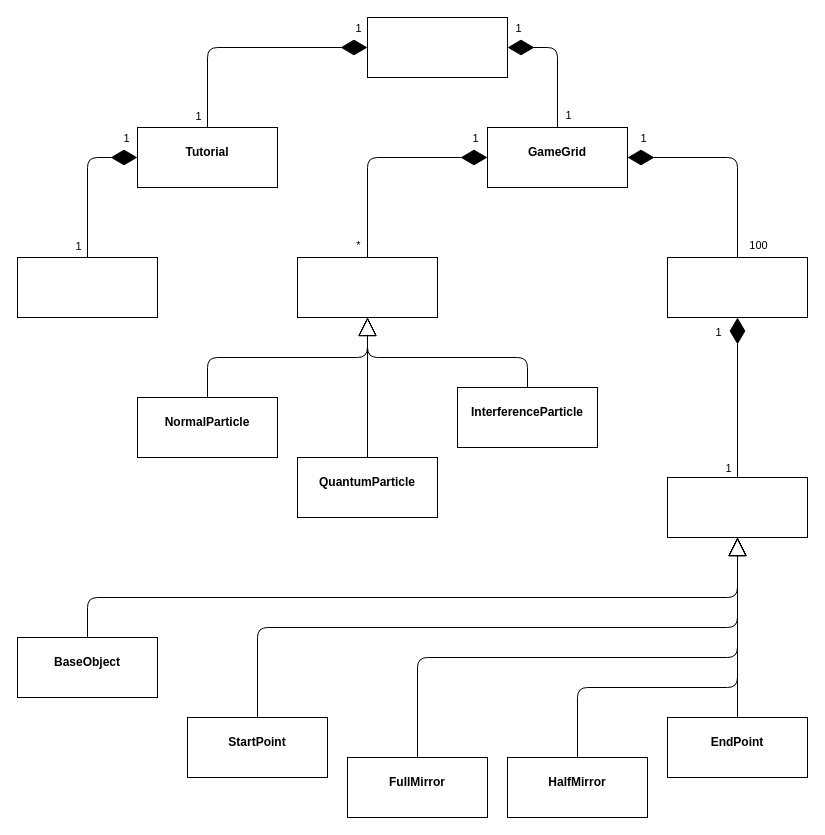
The diagram is 825 pixels wide and 835 high, and some of its shapes have lost their labels. Each missing label, with the box of its shape:
<<abstract>> GameObject: (666, 476, 808, 538)
<<abstract>> Particle: (296, 256, 438, 318)
FieldTile: (666, 256, 808, 318)
MirrorGame: (366, 16, 508, 78)
TutorialOverlay: (16, 256, 158, 318)
